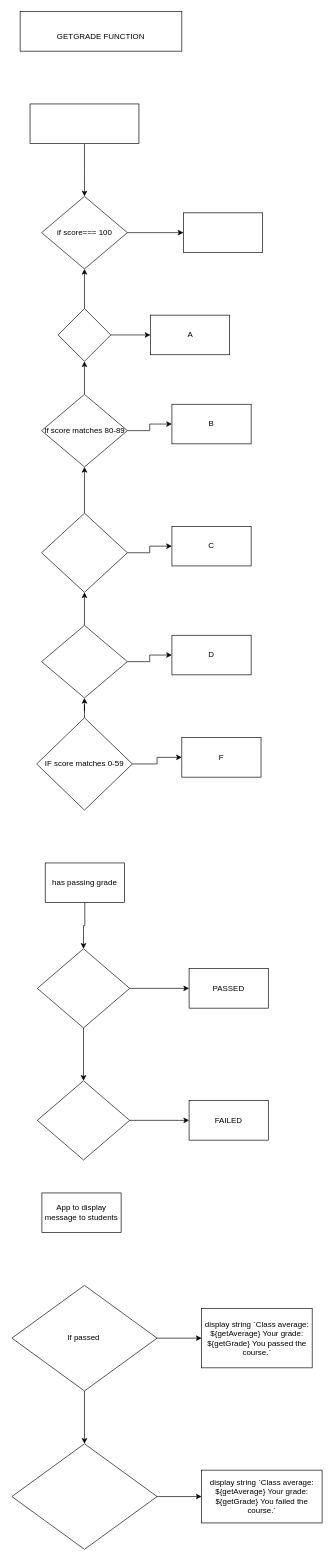
The diagram is 333 pixels wide and 1561 high, and some of its shapes have lost their labels. Here are the shapes that lost their labels. From the top down, the box of each, then its label:
(29, 103, 139, 144): match each score with its corresponding grade
(183, 212, 263, 252): A++
(57, 308, 111, 361): If score matches 90-99
(41, 512, 127, 592): if score matches 70-79
(41, 625, 127, 698): if score matches 60-69
(37, 948, 130, 1028): IF STUDENT HAS GRADE !== F
(37, 1080, 130, 1160): IF STUDENT HAS GRADE===F
(11, 1443, 157, 1549): if failed
